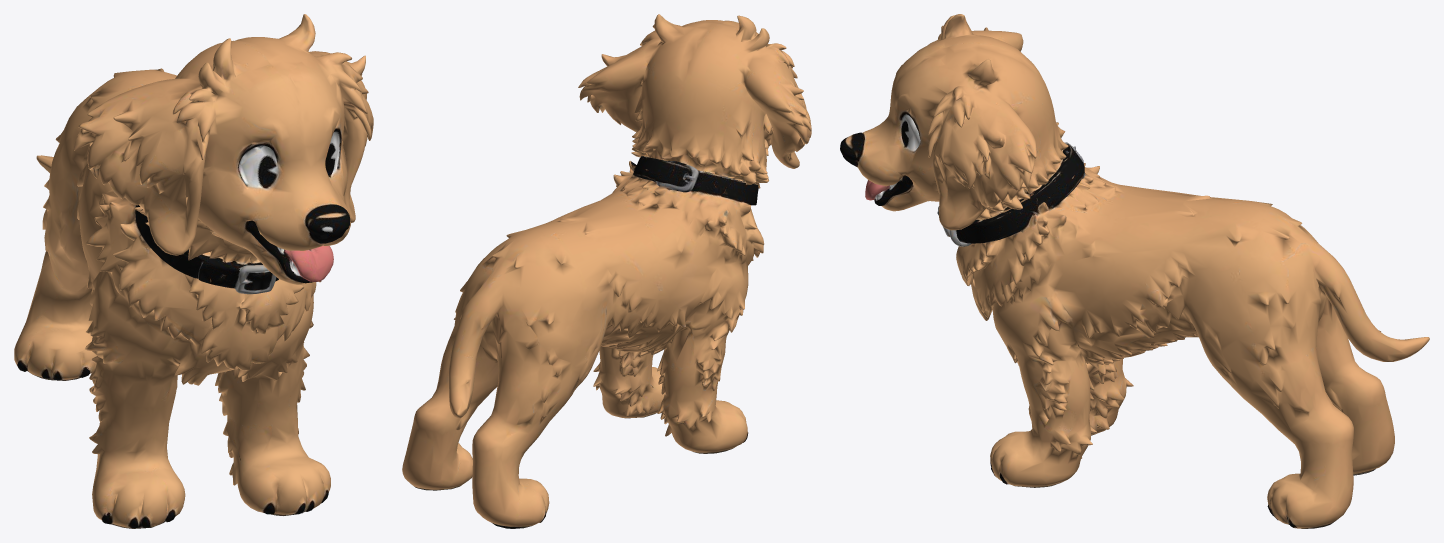
Rendered from dog_golden.glb.
3 views of the same model, side by side, from view 1: azimuth 30°, elevation 25°; view 2: azimuth 150°, elevation 25°; view 3: azimuth 270°, elevation 25° (orthographic). The views are drawn at different scales.
Size of the model in its own units: 1.1 by 1.51 by 1.9.
1 material, 1 textured.
